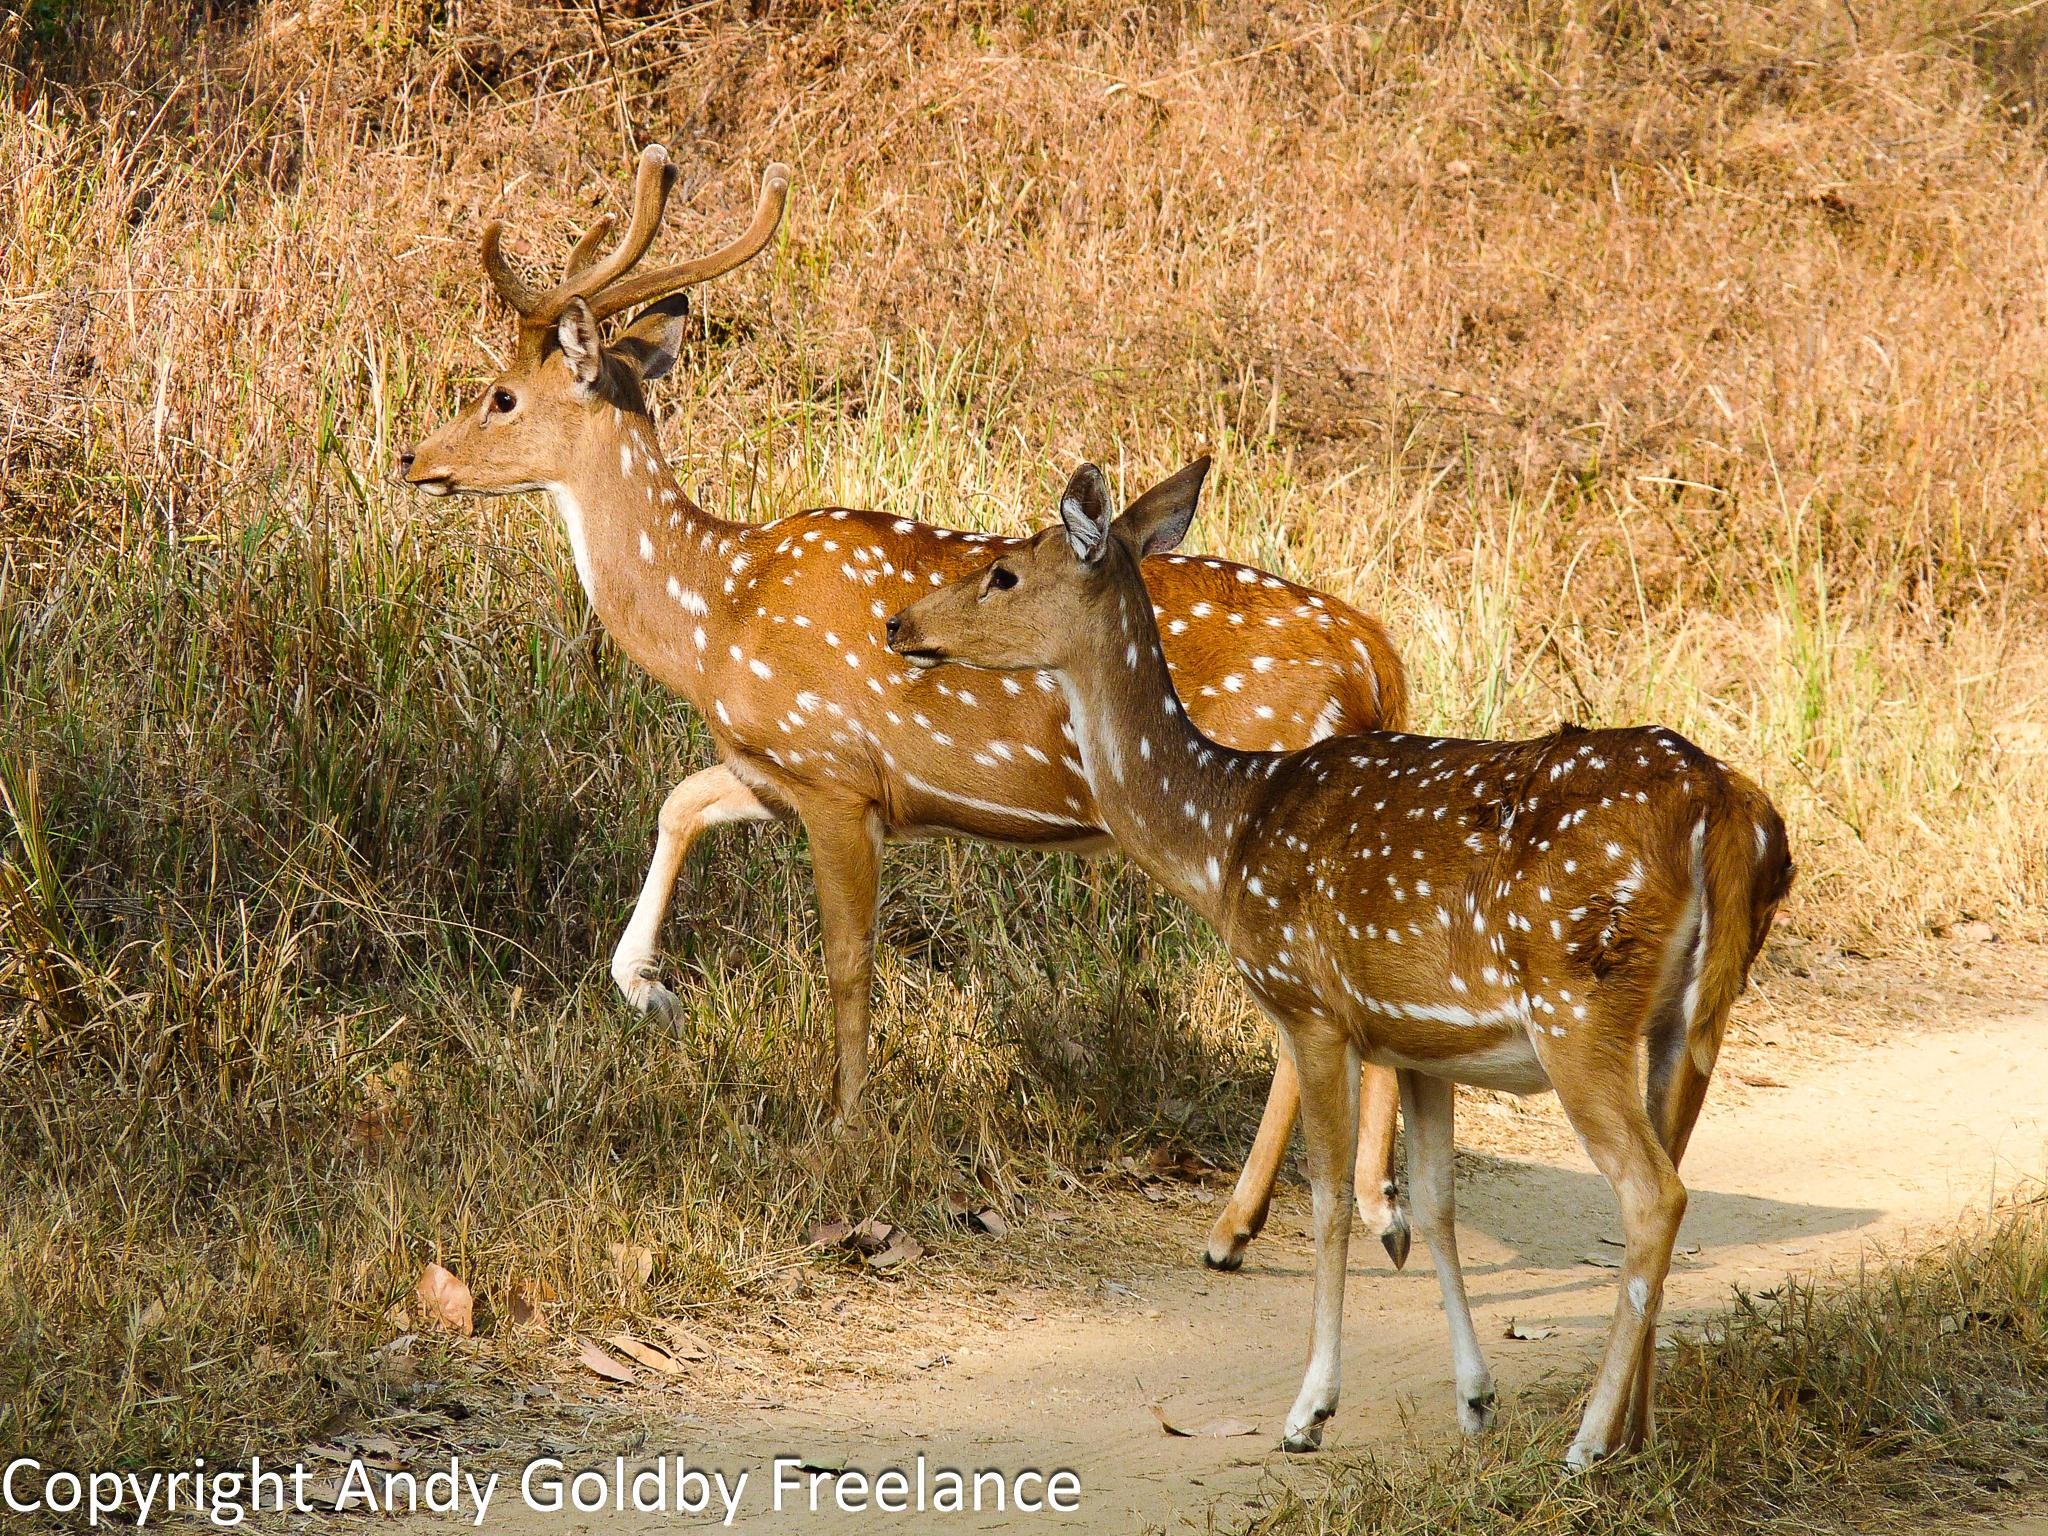Deer: (887, 458, 1793, 1465), (398, 289, 1111, 1117)
